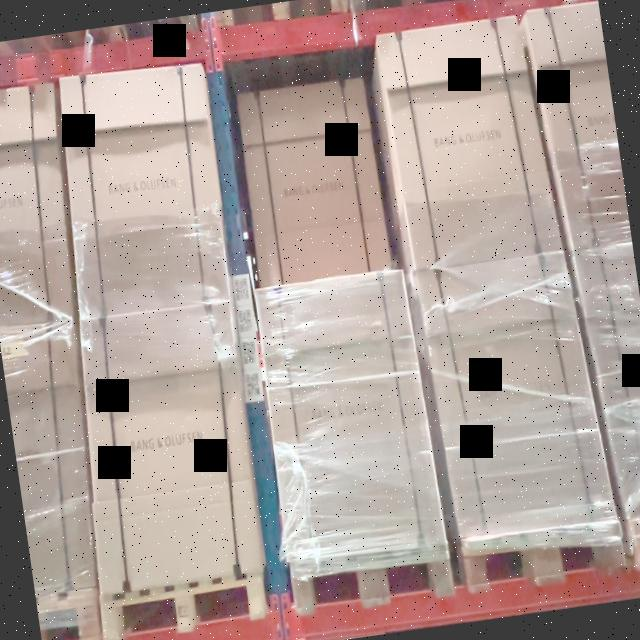box: (82, 307, 266, 595), (418, 256, 604, 536), (254, 273, 440, 553), (59, 62, 232, 324), (380, 17, 550, 269), (240, 72, 392, 286)
